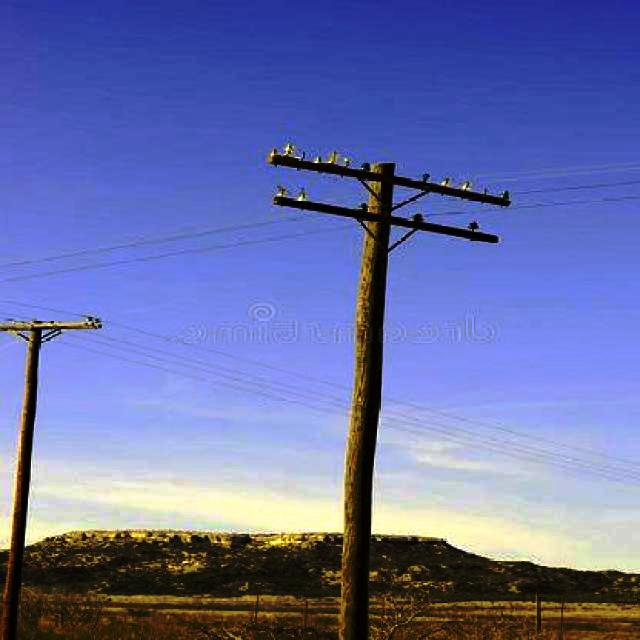poles: (263, 148, 515, 639), (2, 297, 100, 638)
wires: (59, 314, 340, 421), (14, 213, 336, 285), (389, 389, 631, 483)
